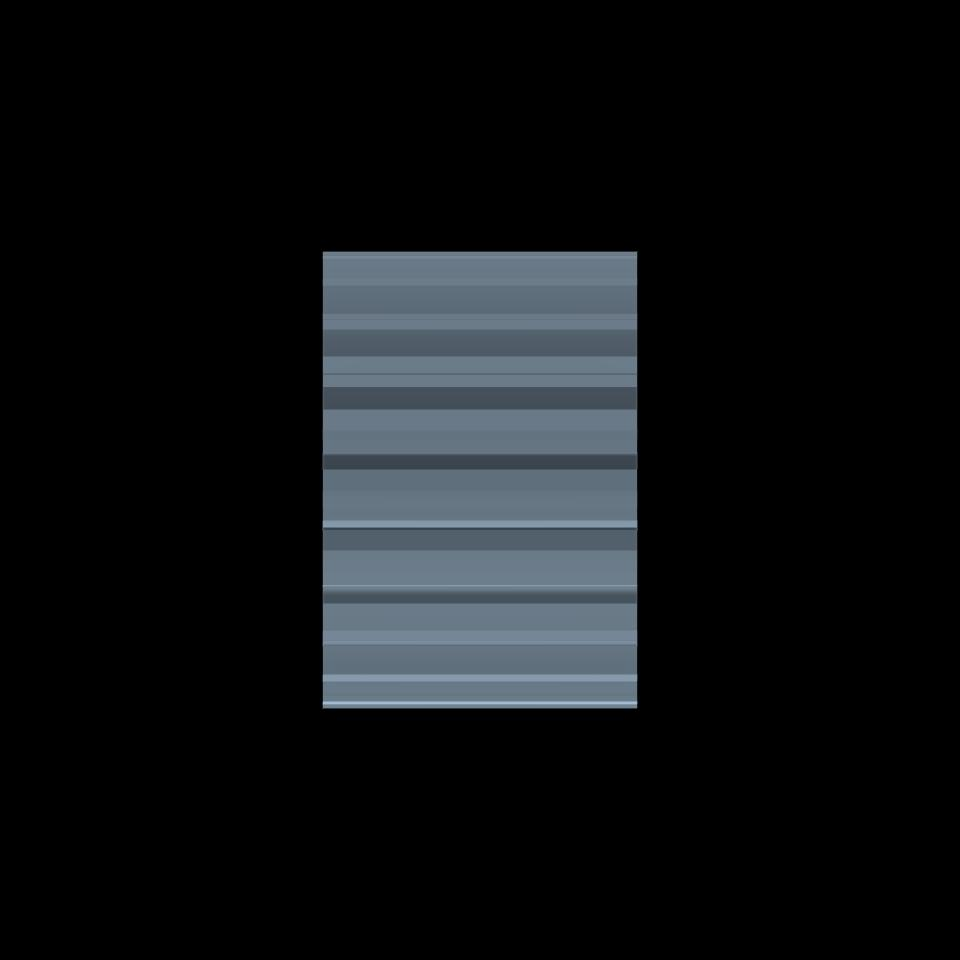Straight: (324, 251, 637, 707)
